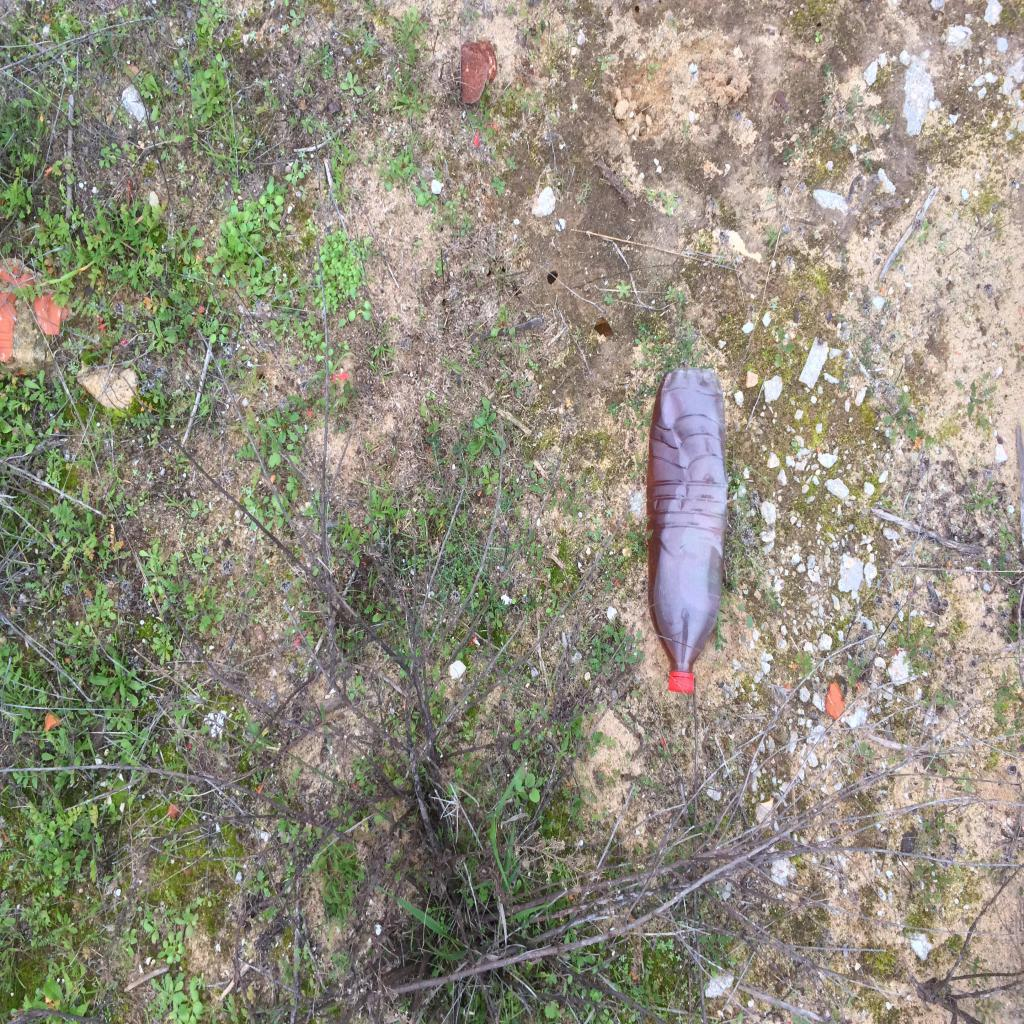Clear plastic bottle: (646, 368, 728, 694)
Plastic bottle cap: (668, 676, 695, 693)
Scrap metal: (461, 40, 496, 103)
